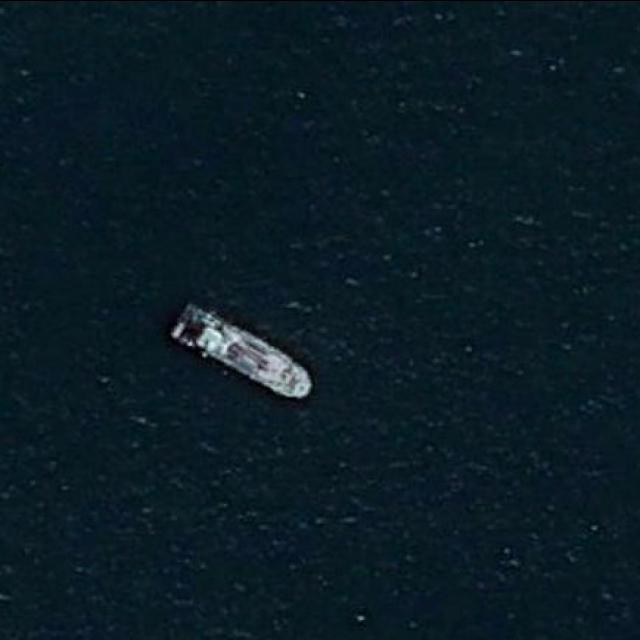ship: (170, 300, 314, 400)
